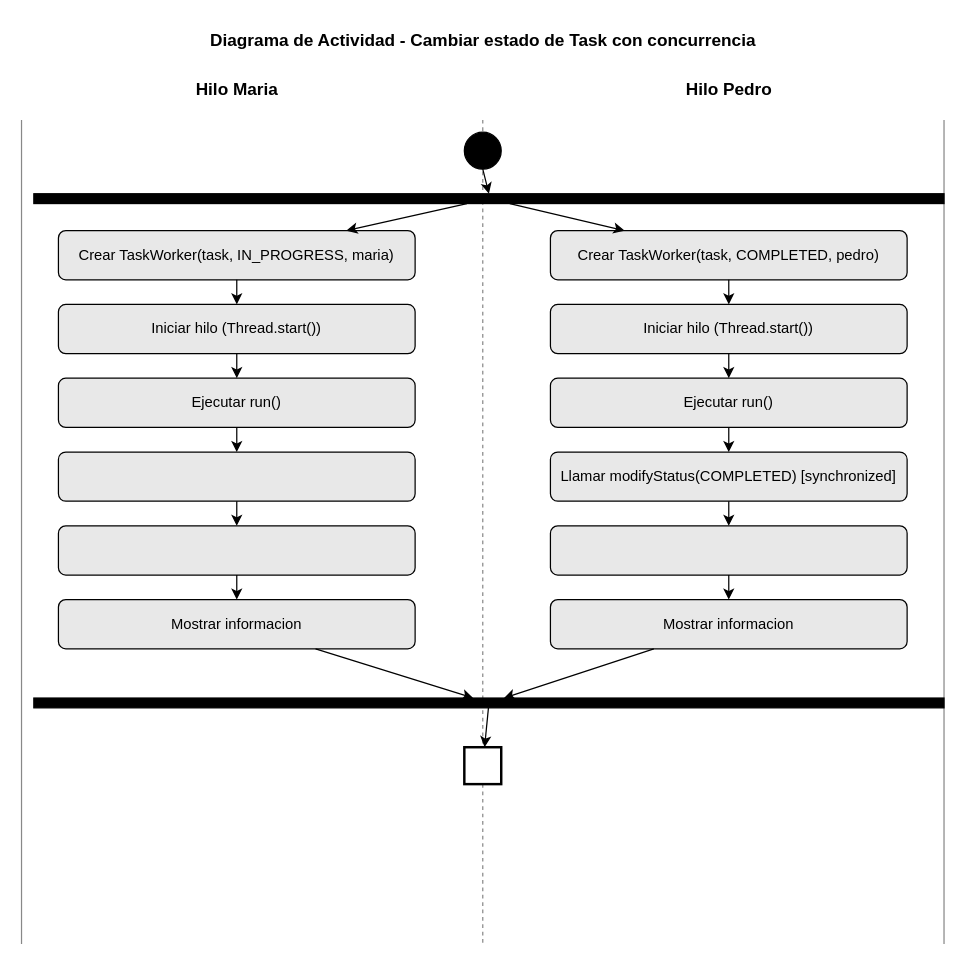
Image size: 967x967. Some labels were removed from this diagram. The box of each missing label's shape, as (x1, y1, x2, y2) in pixels:
Actualizar status a COMPLETED: (549, 525, 907, 575)
Actualizar status a IN_PROGRESS: (57, 525, 415, 575)
Llamar modifyStatus(IN_PROGRESS) [synchronized]: (57, 451, 415, 501)
